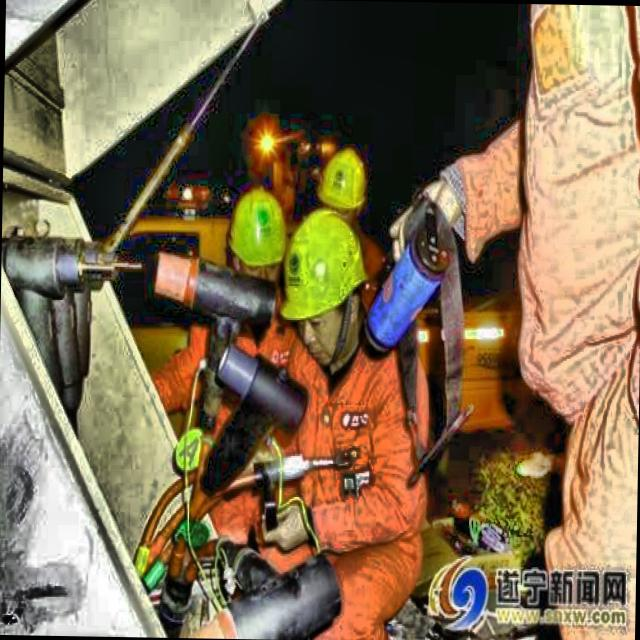helmet: (276, 207, 366, 360), (225, 184, 289, 284), (319, 148, 368, 222)
